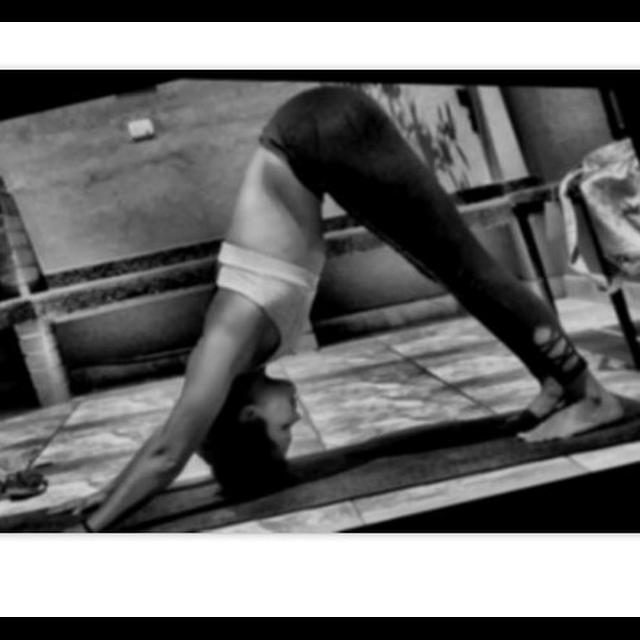Downward-Facing_Dog: (15, 88, 630, 532)
